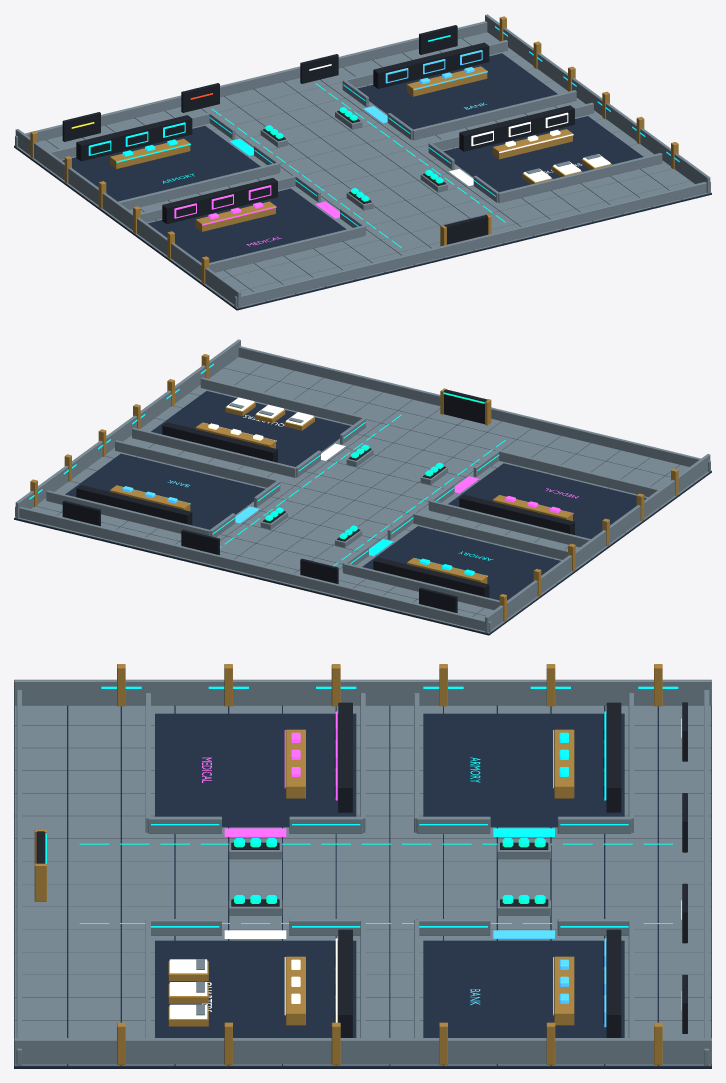
Rendered from civic_deck.glb.
The picture shows the model from 3 angles, top to bottom: view 1: azimuth 30°, elevation 25°; view 2: azimuth 150°, elevation 25°; view 3: azimuth 270°, elevation 25°; orthographic projection. The views are drawn at different scales.
Parts seen in each view (by area): view 1: Civic_architecture_1, Civic_architecture_0, Civic_architecture_4, Civic_architecture_2, Civic_architecture_8, Civic_architecture_3, Civic_architecture_5, Civic_architecture_6, Civic_architecture_7; view 2: Civic_architecture_1, Civic_architecture_0, Civic_architecture_4, Civic_architecture_2, Civic_architecture_5, Civic_architecture_8, Civic_architecture_3, Civic_architecture_6; view 3: Civic_architecture_1, Civic_architecture_0, Civic_architecture_2, Civic_architecture_4, Civic_architecture_3, Civic_architecture_8, Civic_architecture_5, Civic_architecture_6, Civic_architecture_7.
Boxes of the visible parts, bbox=[...] form: Civic_architecture_1: bbox=[14, 14, 711, 308]; Civic_architecture_0: bbox=[14, 41, 711, 310]; Civic_architecture_4: bbox=[62, 25, 574, 244]; Civic_architecture_2: bbox=[30, 16, 678, 283]; Civic_architecture_8: bbox=[309, 64, 610, 185]; Civic_architecture_3: bbox=[88, 26, 679, 226]; Civic_architecture_5: bbox=[212, 83, 505, 247]; Civic_architecture_6: bbox=[174, 185, 339, 246]; Civic_architecture_7: bbox=[363, 50, 487, 123]; Civic_architecture_1: bbox=[14, 339, 711, 633]; Civic_architecture_0: bbox=[14, 366, 711, 635]; Civic_architecture_4: bbox=[62, 389, 574, 613]; Civic_architecture_2: bbox=[30, 354, 678, 621]; Civic_architecture_5: bbox=[220, 392, 505, 566]; Civic_architecture_8: bbox=[203, 397, 345, 460]; Civic_architecture_3: bbox=[29, 363, 499, 576]; Civic_architecture_6: bbox=[454, 476, 578, 514]; Civic_architecture_1: bbox=[14, 679, 711, 1065]; Civic_architecture_0: bbox=[14, 705, 711, 1068]; Civic_architecture_2: bbox=[34, 664, 662, 1064]; Civic_architecture_4: bbox=[36, 702, 687, 1037]; Civic_architecture_3: bbox=[101, 686, 681, 1010]; Civic_architecture_8: bbox=[169, 900, 681, 1022]; Civic_architecture_5: bbox=[45, 833, 672, 923]; Civic_architecture_6: bbox=[202, 711, 337, 836]; Civic_architecture_7: bbox=[470, 930, 606, 1027].
Size of the model in its own units: 64 by 3.49 by 52.
